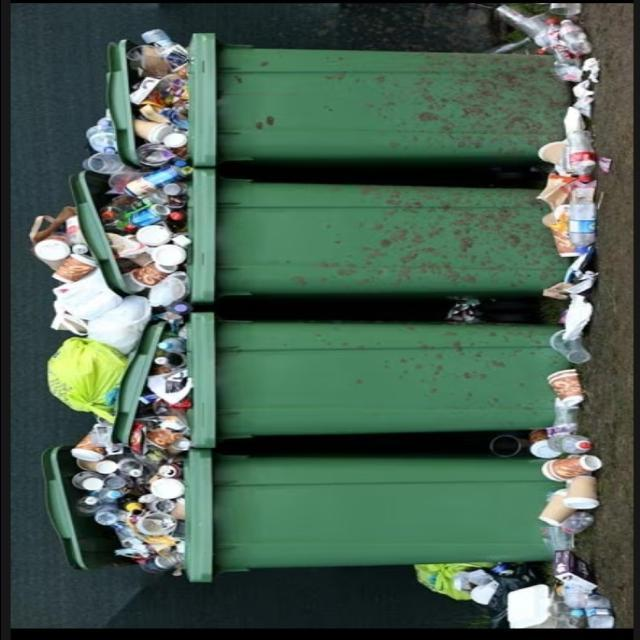Disposable: (50, 254, 95, 282), (128, 262, 175, 288), (132, 119, 174, 144), (82, 152, 125, 175), (69, 435, 104, 461), (136, 144, 175, 166), (71, 471, 103, 491), (76, 459, 118, 474), (157, 338, 184, 352)
Garbage: (29, 29, 191, 575)
Plastic_Bag: (46, 338, 126, 421), (50, 269, 122, 335), (86, 295, 151, 354)
Plastic_bottle: (84, 116, 115, 154), (86, 115, 115, 154), (65, 215, 87, 255), (92, 504, 124, 525), (118, 458, 143, 478), (90, 489, 124, 502), (76, 496, 99, 515), (166, 301, 193, 315), (162, 182, 187, 196)
can: (124, 166, 182, 196), (128, 204, 170, 228), (153, 352, 183, 368), (155, 464, 180, 478)
